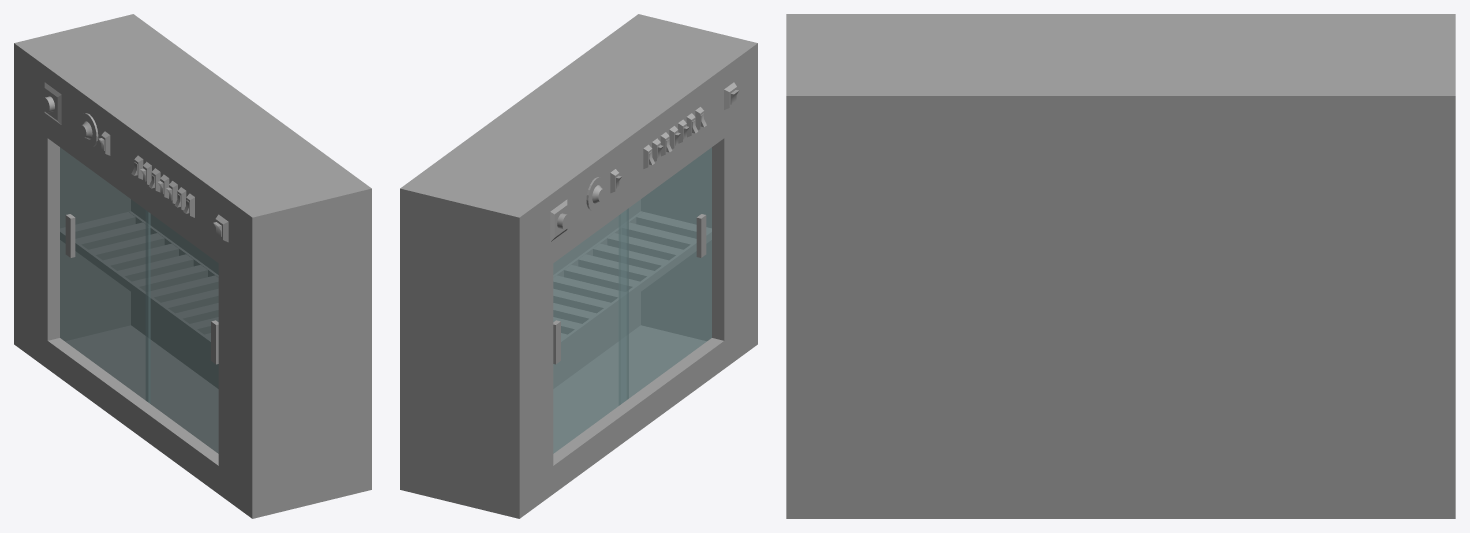
Rendered from EarthLab_PlantTank2_UNWRAPPED_Week12.fbx.
3 views of the same model, side by side, from view 1: azimuth 30°, elevation 25°; view 2: azimuth 150°, elevation 25°; view 3: azimuth 270°, elevation 25° (orthographic). The views are drawn at different scales.
Parts seen in each view (by area): view 1: polySurface38; view 2: polySurface38; view 3: polySurface38.
Boxes of the visible parts, x1,y1,x2,y2 form: polySurface38: (14, 14, 371, 518); polySurface38: (400, 14, 757, 518); polySurface38: (786, 14, 1455, 518).
Size of the model in its own units: 1.72 by 3.89 by 5.58.
